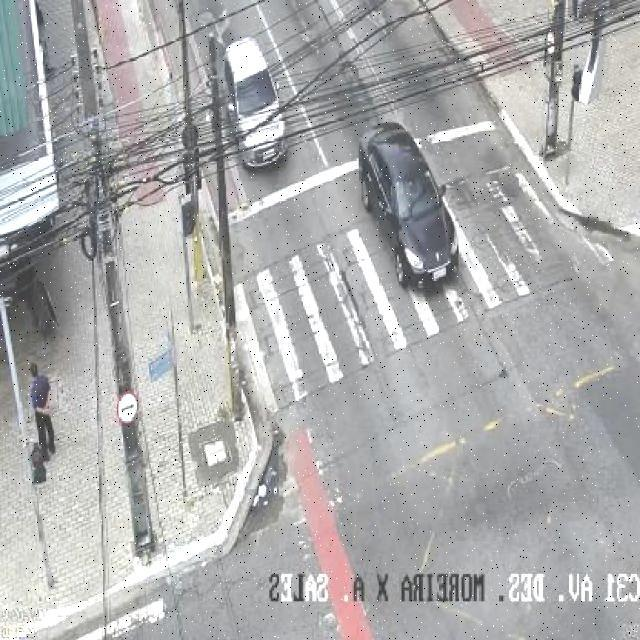Car: (355, 125, 463, 288), (220, 41, 289, 172)
